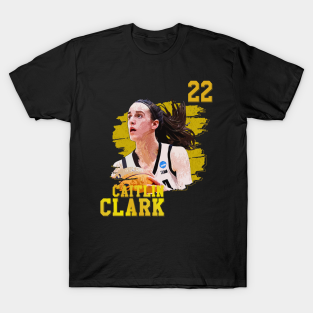design: (98, 78, 215, 218)
